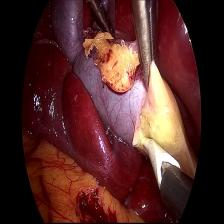Grasper: (132, 1, 160, 91), (83, 0, 116, 39)
Hook: (137, 134, 179, 190)
